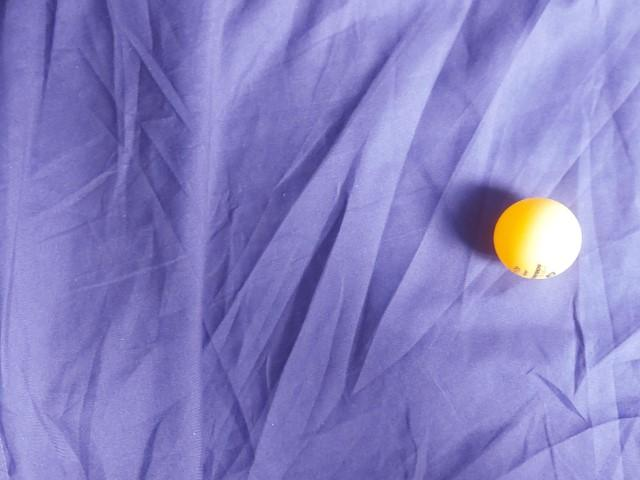oball: (48, 194, 152, 293)
